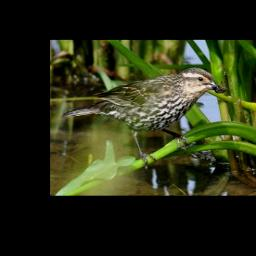Sparrow: (60, 67, 224, 167)
